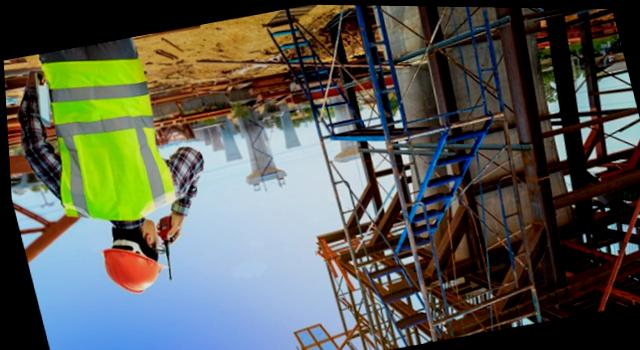helmet: (93, 234, 171, 298)
vest: (27, 41, 179, 229)
